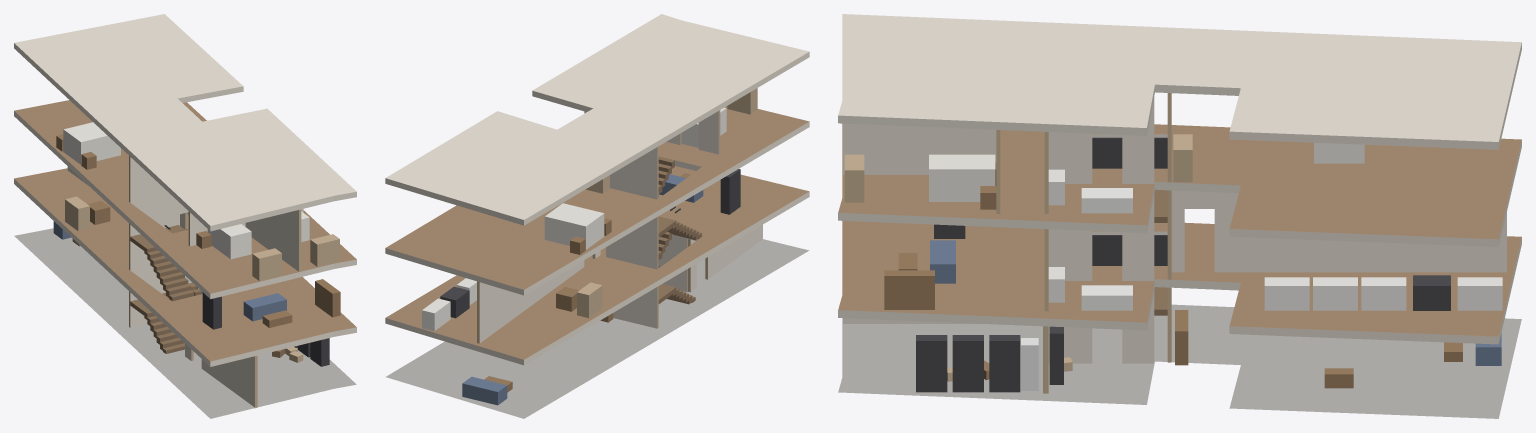
File: interior.glb
The picture shows the model from 3 angles, left to right: view 1: azimuth 30°, elevation 25°; view 2: azimuth 150°, elevation 25°; view 3: azimuth 270°, elevation 25°; orthographic projection. The views are drawn at different scales.
Visible parts, largest first — view 1: slabs, partitions, coarse-s2, coarse-s1, stair, coarse-s0; view 2: slabs, partitions, coarse-s1, coarse-s2, stair, coarse-s0; view 3: slabs, partitions, coarse-s1, coarse-s0, coarse-s2, stair.
Boxes of the visible parts, box(x1,y1,x2,y2) form: slabs: box(14, 14, 356, 418); partitions: box(67, 156, 303, 408); coarse-s2: box(56, 122, 339, 280); coarse-s1: box(65, 196, 340, 329); stair: box(130, 225, 202, 353); coarse-s0: box(53, 221, 329, 366); slabs: box(385, 14, 809, 418); partitions: box(477, 110, 762, 343); coarse-s1: box(422, 169, 740, 331); coarse-s2: box(544, 88, 757, 254); stair: box(658, 156, 701, 304); coarse-s0: box(462, 313, 613, 405); slabs: box(838, 14, 1521, 418); partitions: box(843, 93, 1506, 393); coarse-s1: box(884, 224, 1502, 310); coarse-s0: box(916, 310, 1501, 392); coarse-s2: box(844, 134, 1364, 213); stair: box(1092, 137, 1167, 315).
Size of the model in its own units: 9.11 by 9.2 by 20.54.
